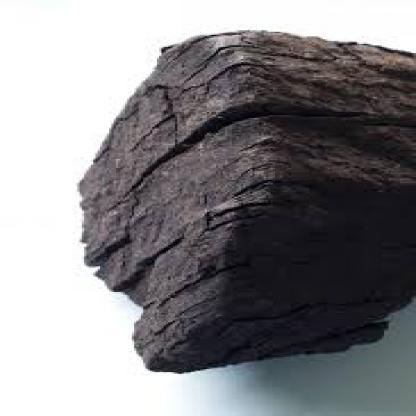Sedimentary_coal: (64, 18, 414, 377)
